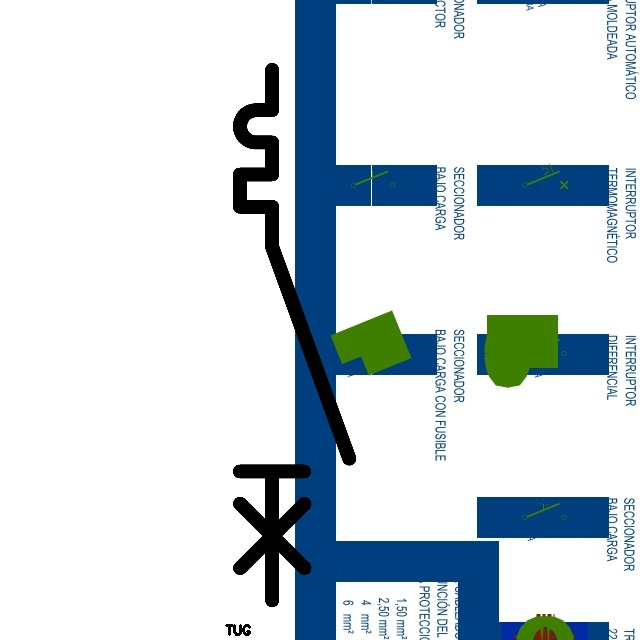interruptor_termomagnetico: (226, 56, 362, 614)
